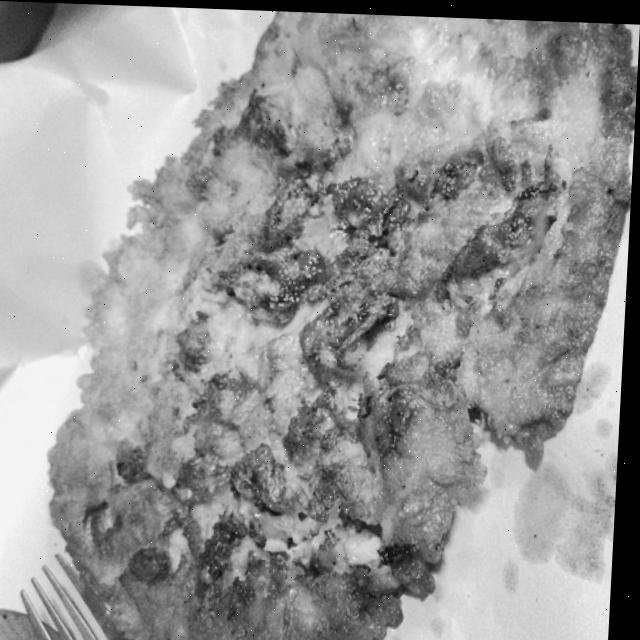炸货点心: (5, 17, 631, 640)
蛋糕甜品: (5, 17, 631, 640)
